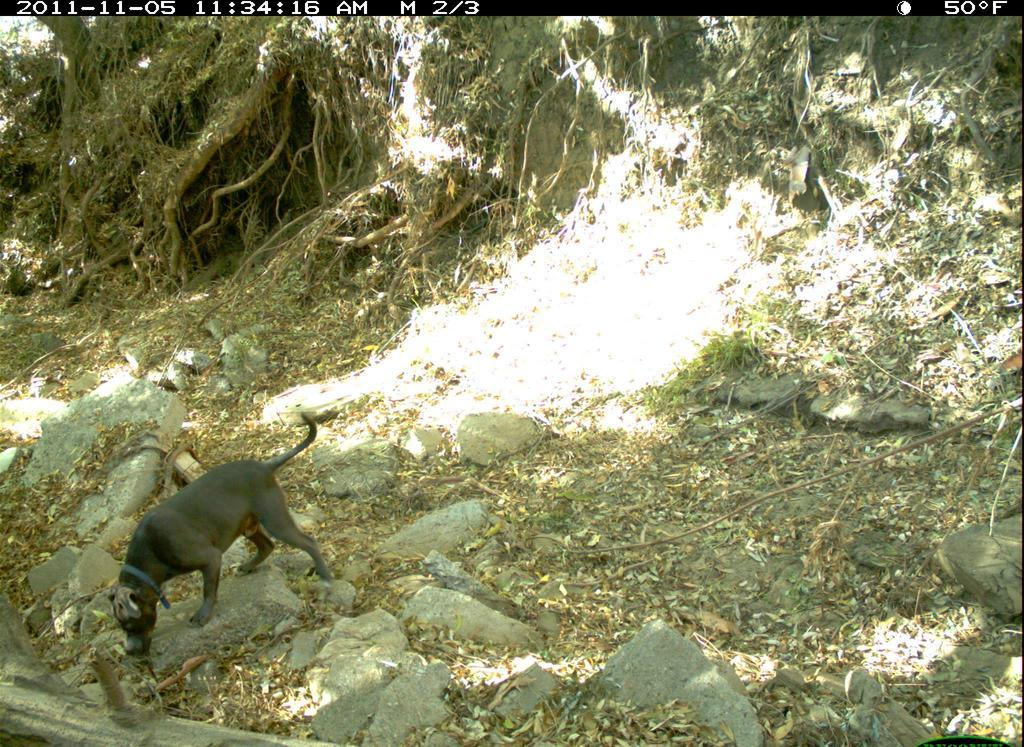dog: (100, 409, 353, 666)
